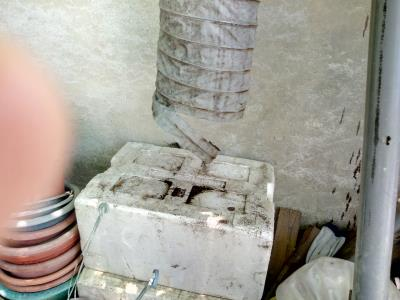styrofoam: (72, 140, 276, 294)
